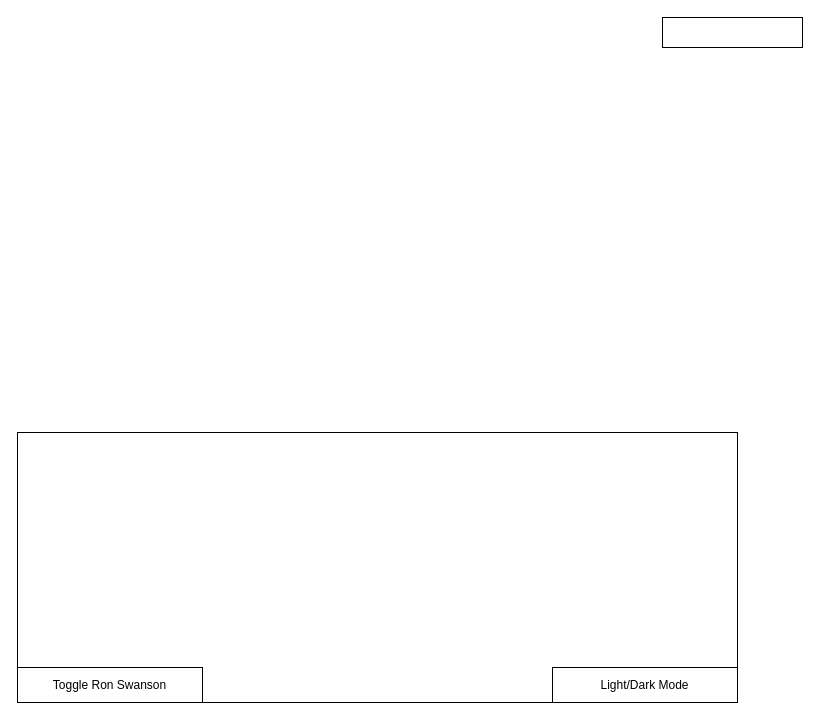
The diagram is 820 pixels wide and 720 high, and some of its shapes have lost their labels. Here are the shapes that lost their labels. From the top down, the box of each, then its label:
(662, 16, 802, 48): Log In
(16, 432, 738, 702): Landing Title Screen
